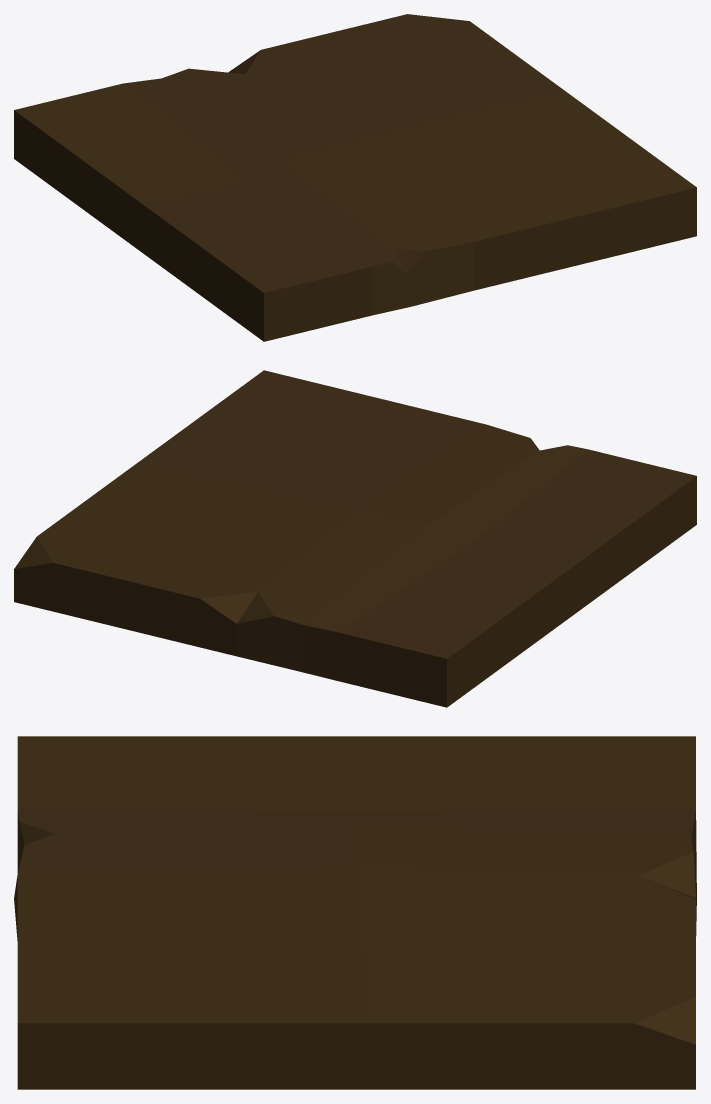
The model's file is Platform3.fbx.
The picture shows the model from 3 angles, top to bottom: view 1: azimuth 30°, elevation 25°; view 2: azimuth 150°, elevation 25°; view 3: azimuth 270°, elevation 25°; orthographic projection. The views are drawn at different scales.
Visible parts, largest first — view 1: 立方体.007; view 2: 立方体.007; view 3: 立方体.007.
Boxes of the visible parts, x1,y1,x2,y2 form: 立方体.007: [14, 14, 696, 341]; 立方体.007: [14, 370, 696, 707]; 立方体.007: [14, 736, 696, 1089].
Bounding box in the file's own units: 2 × 0.2366 × 2.01.
